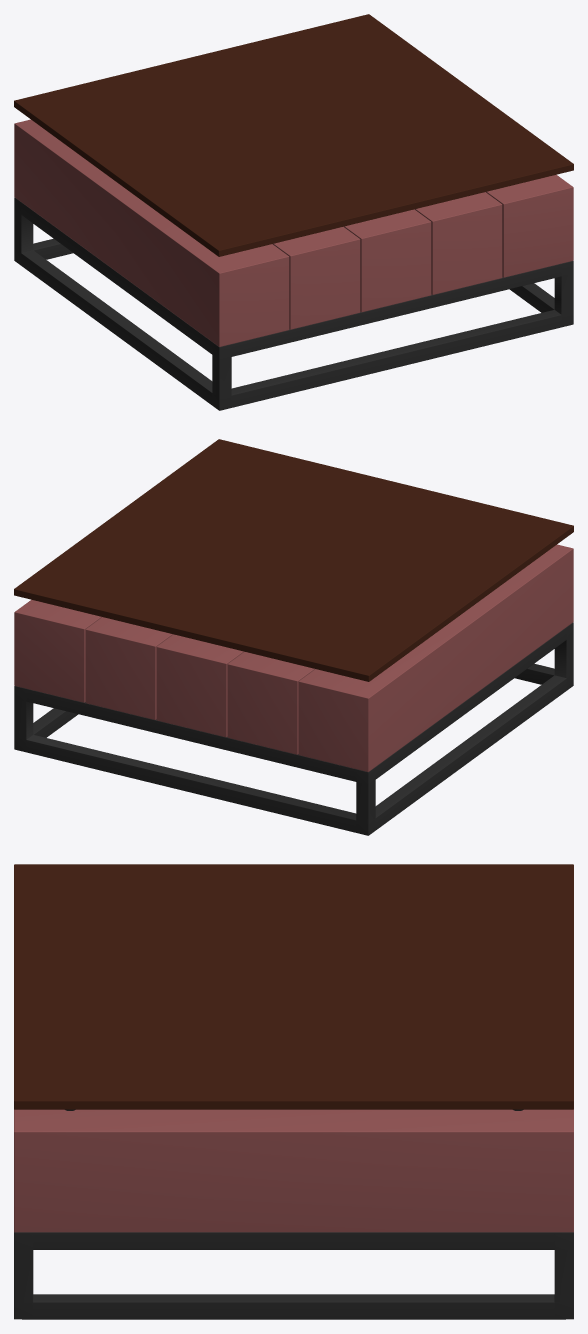
File: CenterTableV2.FBX
3 renders of one model, top to bottom at view 1: azimuth 30°, elevation 25°; view 2: azimuth 150°, elevation 25°; view 3: azimuth 270°, elevation 25°, orthographic. The views are drawn at different scales.
Visible parts, largest first — view 1: CenterTableV2; view 2: CenterTableV2; view 3: CenterTableV2.
Part boxes in pixels (box(x1,y1,x2,y2)): CenterTableV2: box(14, 14, 573, 410); CenterTableV2: box(14, 439, 573, 835); CenterTableV2: box(14, 864, 573, 1319).
Bounding box in the file's own units: 0.7203 × 0.3107 × 0.7203.
